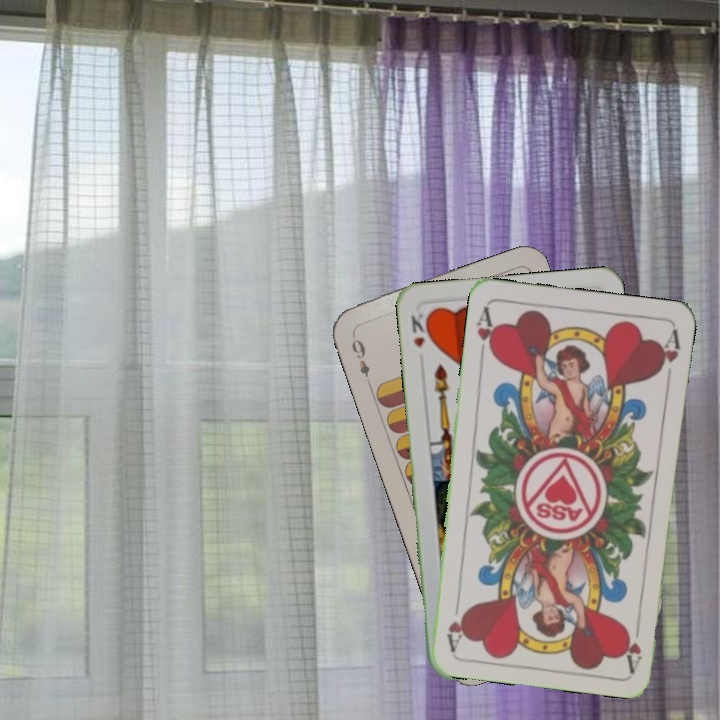E9: (347, 330, 374, 388)
HA: (472, 302, 500, 362), (619, 613, 644, 673)
HK: (407, 309, 433, 351)
